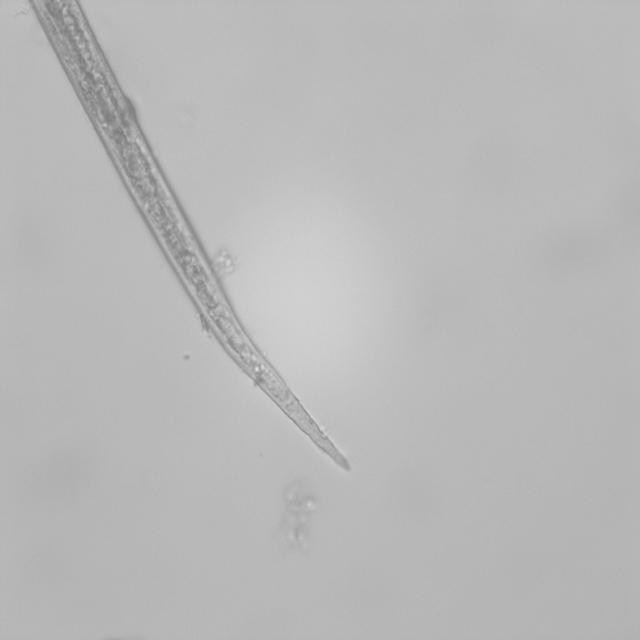Meloidogyne: (0, 0, 361, 480)
